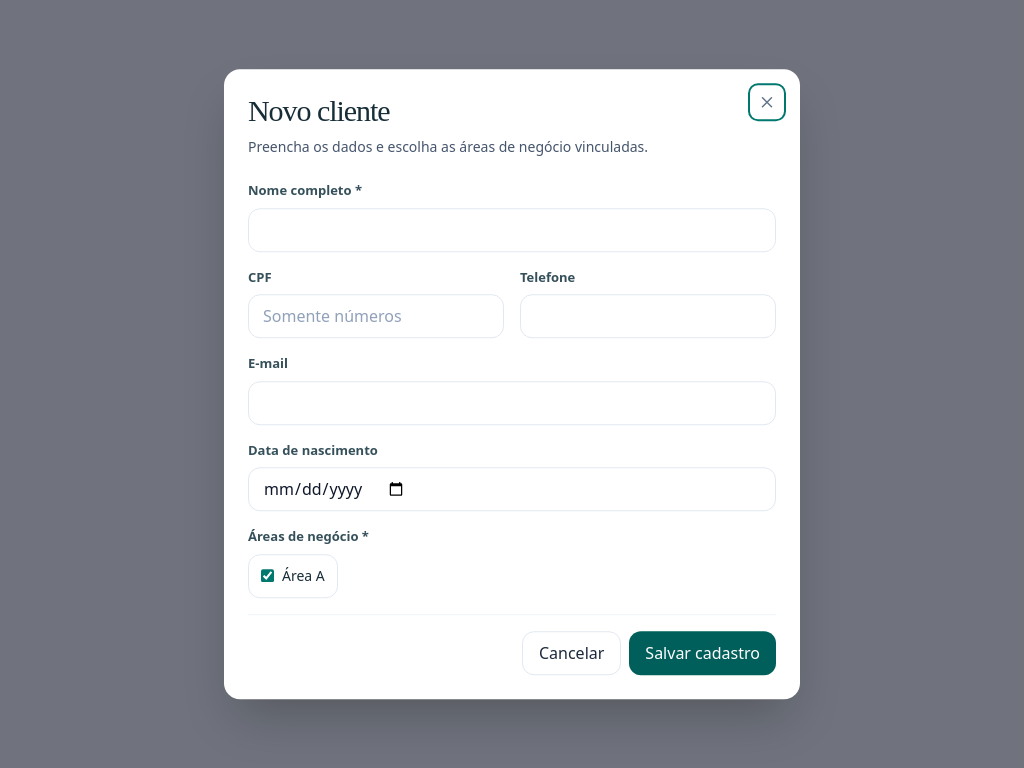
Test case: cadastro de cliente › indica o nome obrigatório antes de enviar
The image size is (1024, 768).
Step 1. Click the button "Salvar cadastro" → click(703, 653), box [629, 631, 776, 675]
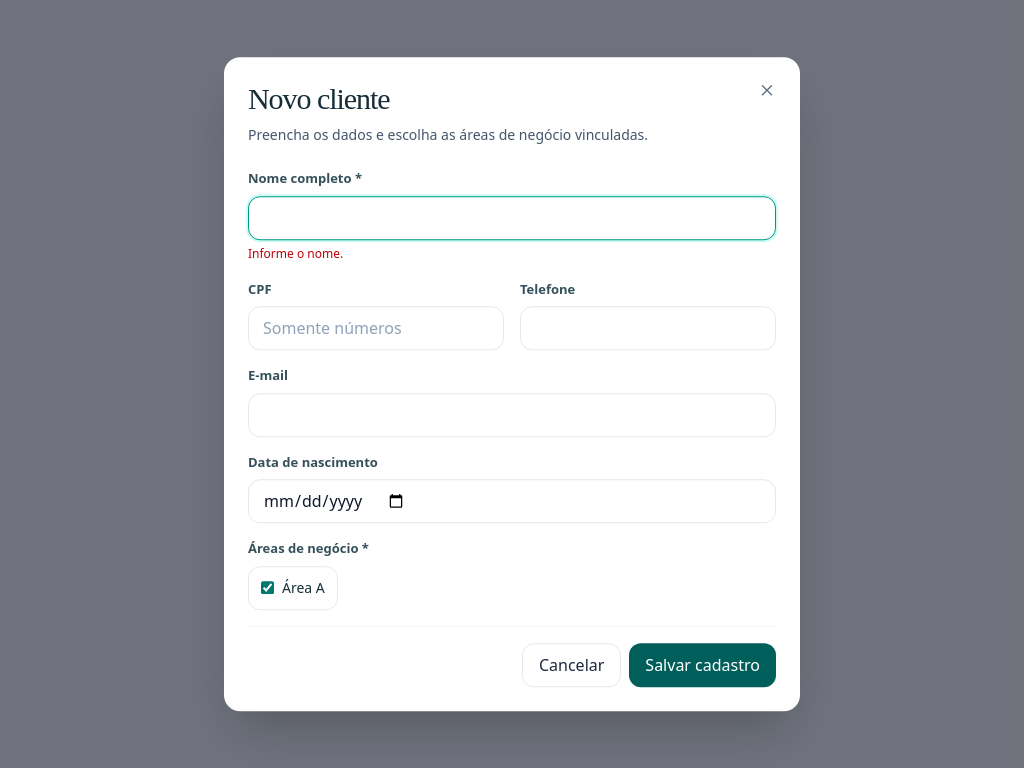
Check: the text "Informe o nome." is shown, box [248, 245, 343, 262]
